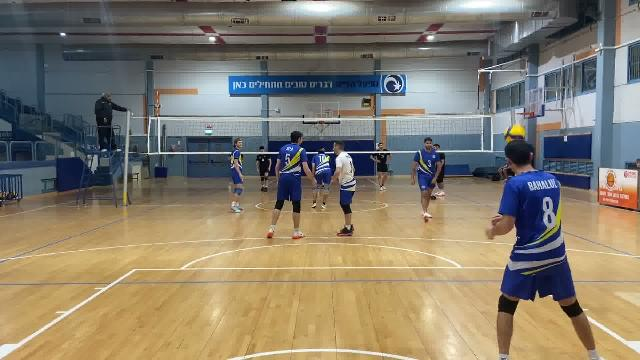ball: (505, 123, 531, 145)
